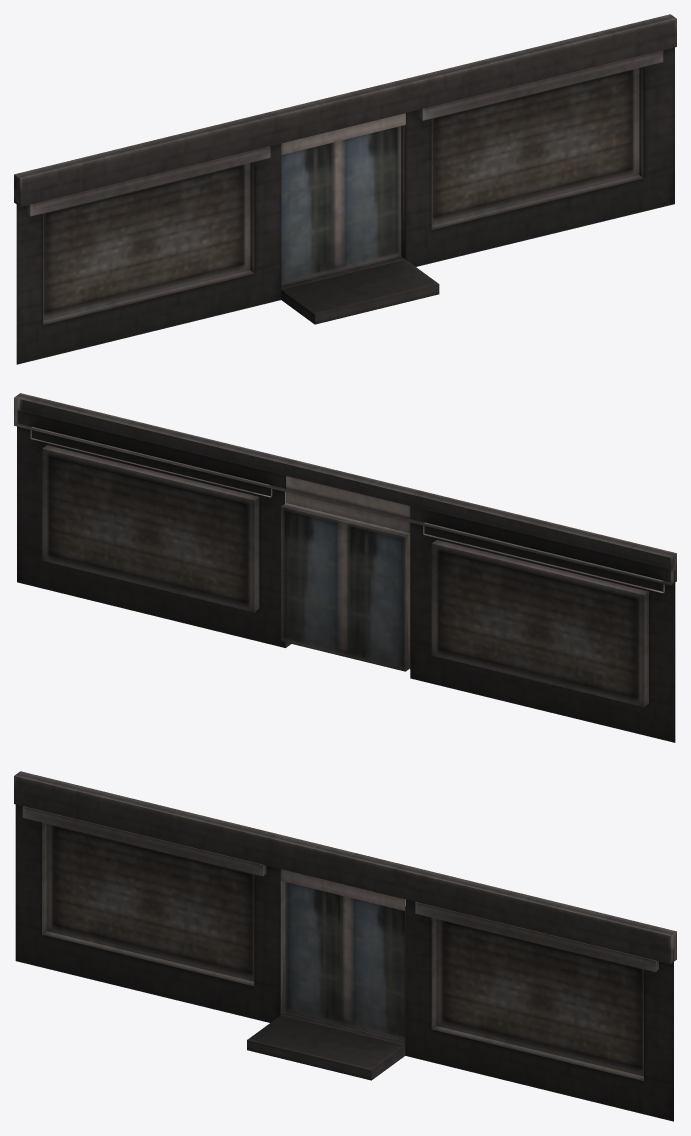
Rendered from B7_Store.FBX.
3 renders of one model, top to bottom at view 1: azimuth 30°, elevation 25°; view 2: azimuth 150°, elevation 25°; view 3: azimuth 330°, elevation 25°, orthographic.
Parts seen in each view (by area): view 1: B7_Store; view 2: B7_Store; view 3: B7_Store.
Part boxes in pixels (box(x1,y1,x2,y2)): B7_Store: box(14, 14, 676, 364); B7_Store: box(14, 393, 676, 742); B7_Store: box(14, 771, 676, 1121).
Bounding box in the file's own units: 16 × 4.35 × 1.63.
